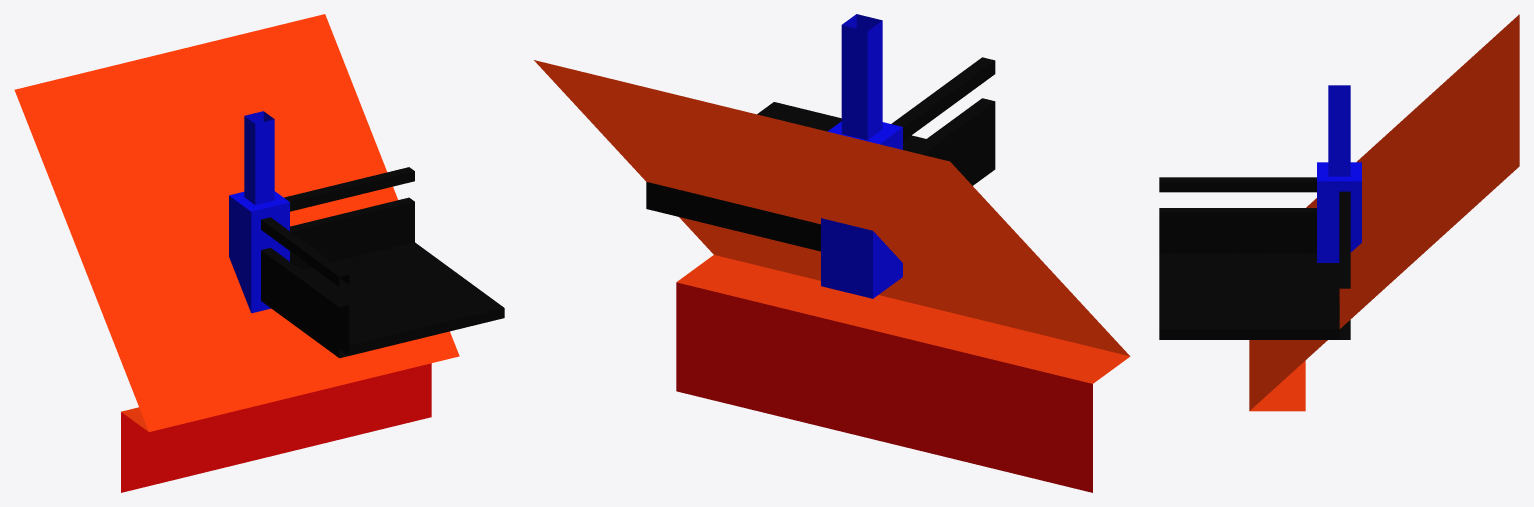
File: None_S_P_E_E_S_E_E_E_BigStrut.fbx
3 views of the same model, side by side, from view 1: azimuth 30°, elevation 25°; view 2: azimuth 150°, elevation 25°; view 3: azimuth 270°, elevation 25° (orthographic). The views are drawn at different scales.
Visible parts, largest first — view 1: None_S_P_E_E_S_E_E_E_BigStrut; view 2: None_S_P_E_E_S_E_E_E_BigStrut; view 3: None_S_P_E_E_S_E_E_E_BigStrut.
Part boxes in pixels (x1,y1,x2,y2): None_S_P_E_E_S_E_E_E_BigStrut: [14, 14, 504, 492]; None_S_P_E_E_S_E_E_E_BigStrut: [534, 14, 1130, 492]; None_S_P_E_E_S_E_E_E_BigStrut: [1159, 14, 1519, 411].
Bounding box in the file's own units: 100 × 100 × 100.
